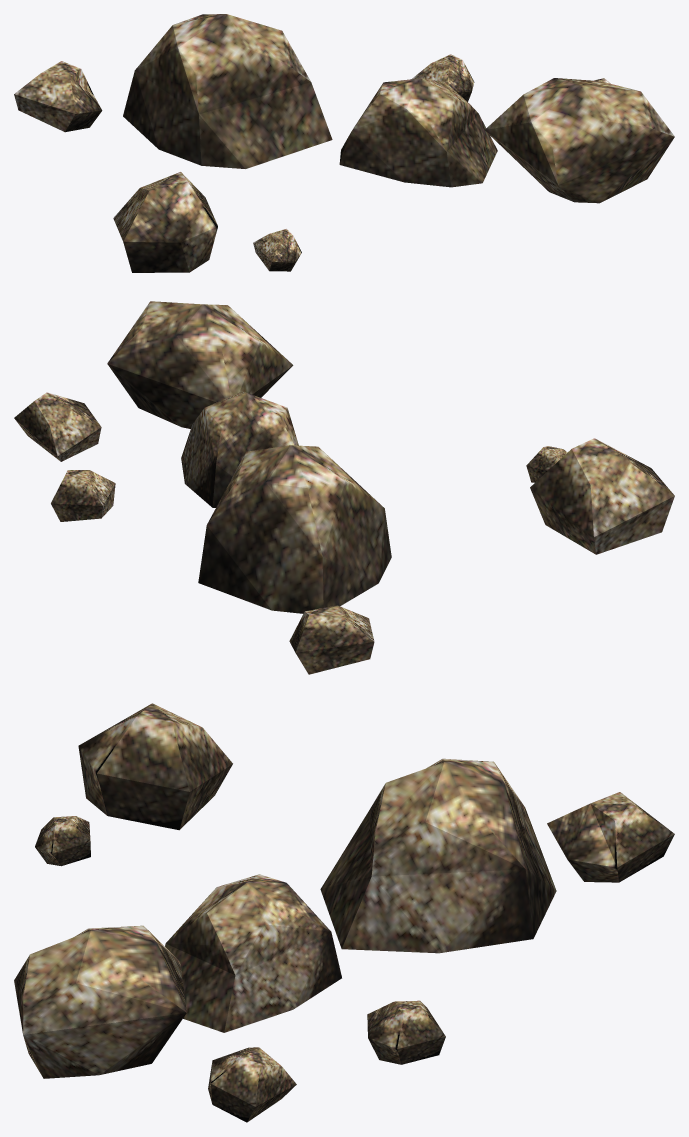
The model's file is stone_001.dae.
3 renders of one model, top to bottom at view 1: azimuth 30°, elevation 25°; view 2: azimuth 150°, elevation 25°; view 3: azimuth 270°, elevation 25°, orthographic. The views are drawn at different scales.
Parts seen in each view (by area): view 1: Mesh_Object; view 2: Mesh_Object; view 3: Mesh_Object.
Boxes of the visible parts, x1,y1,x2,y2 form: Mesh_Object: (14, 14, 674, 272); Mesh_Object: (14, 301, 674, 674); Mesh_Object: (14, 703, 674, 1122).
Size of the model in its own units: 1.9 by 0.4368 by 1.52.
